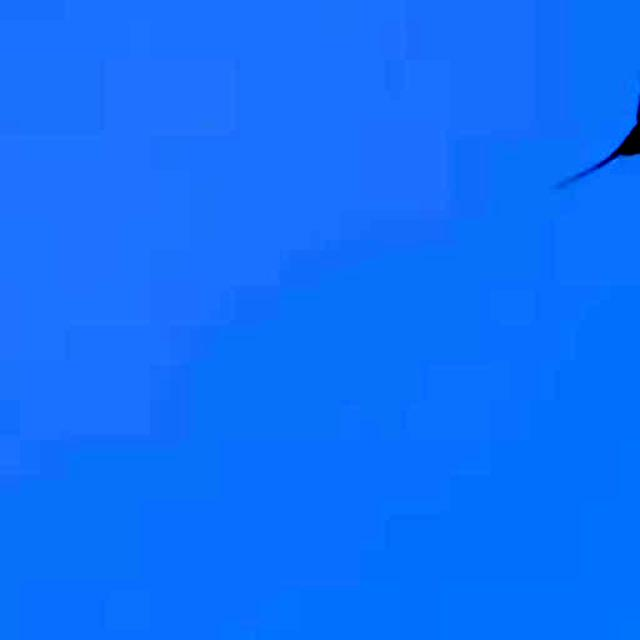airplane: (562, 15, 640, 192)
